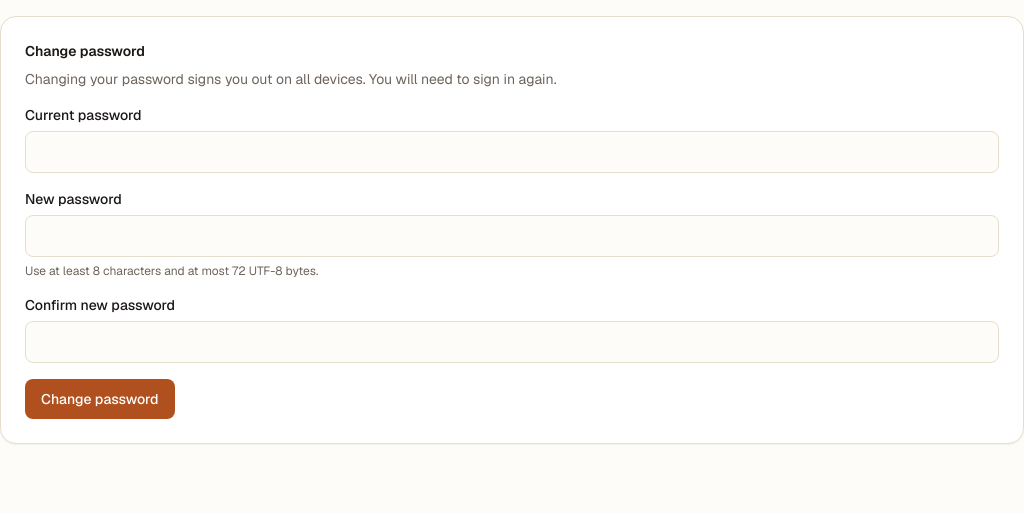
Test: profile password form › validates before submitting (old / new password)
Type "old" into the password field labelled "Current password" at [512, 152], box top-left (25, 131), bottom-right (999, 173)
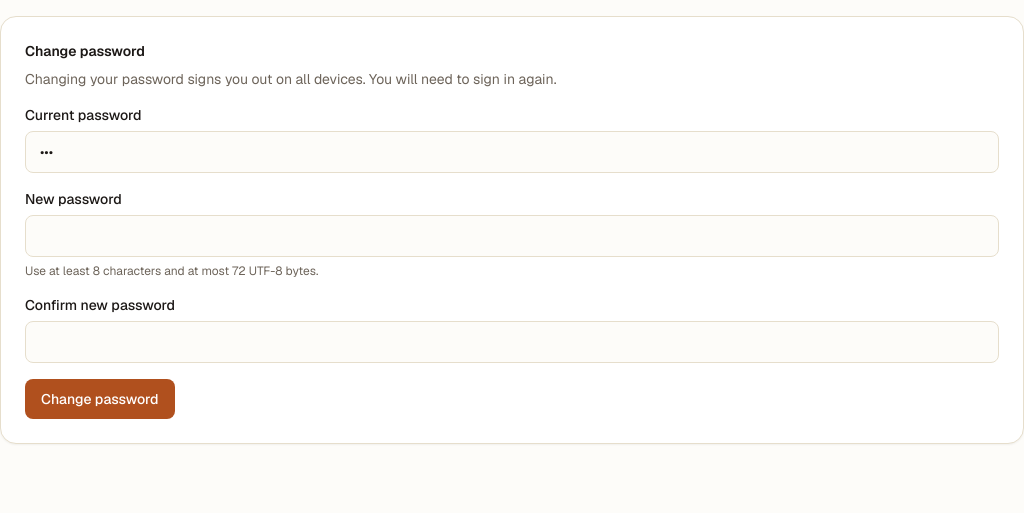
Type "new password" into the password field labelled "New password" at [512, 236], box top-left (25, 215), bottom-right (999, 257)
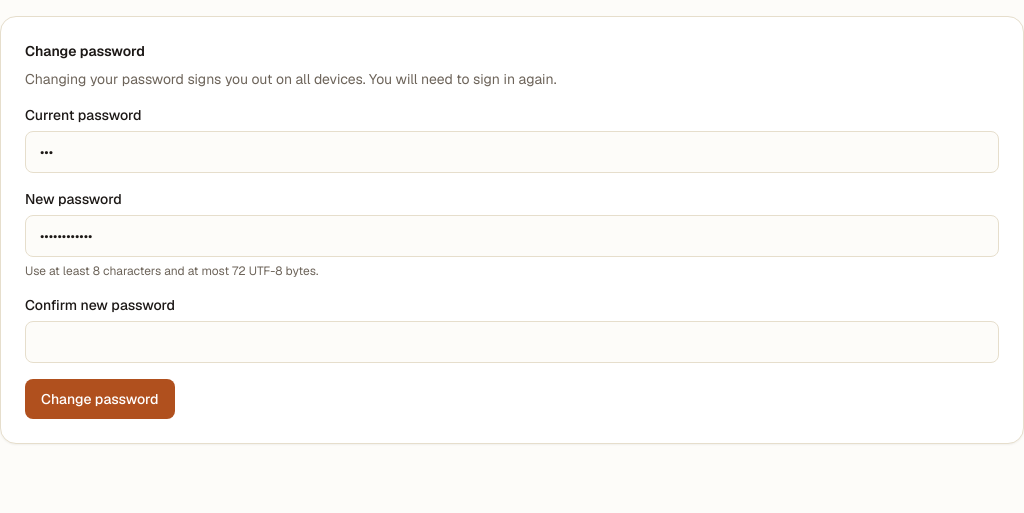
Type "different password" into the password field labelled "Confirm new password" at [512, 342], box top-left (25, 321), bottom-right (999, 363)
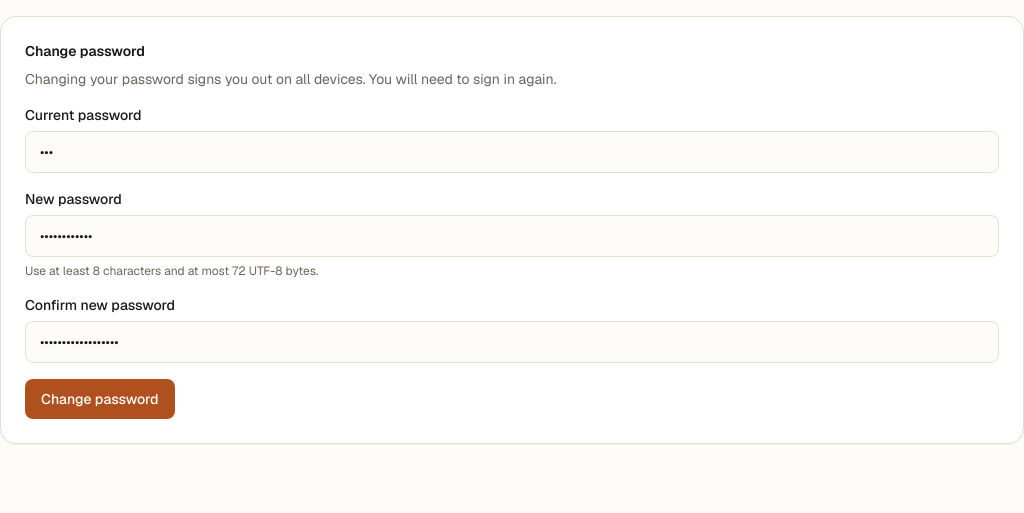
Submit the form named "Change password"
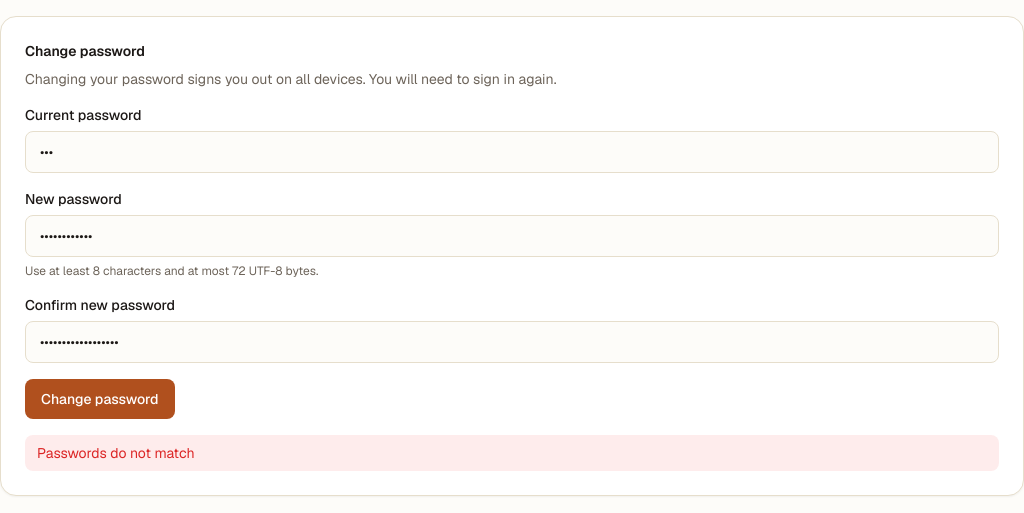
Result: the message reads "Passwords do not match" at top-left (37, 444), bottom-right (194, 462)
